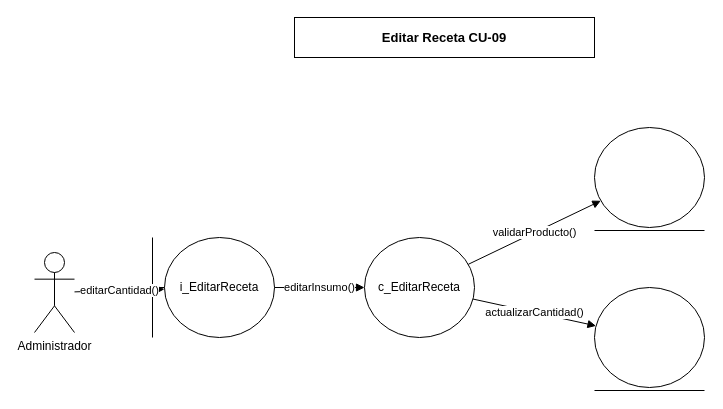
Some shapes in this 723 by 409 pixel diagram are drawn without their labels. The centre of each missing label's shape, as x and y in pixels:
e_producto: (649,177)
e_receta: (649,337)
